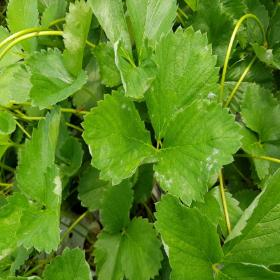Powdery Mildew Leaf: (152, 98, 244, 208), (144, 25, 221, 141), (79, 88, 158, 186), (152, 193, 225, 279), (14, 163, 64, 254), (113, 35, 157, 100), (249, 42, 279, 69)
